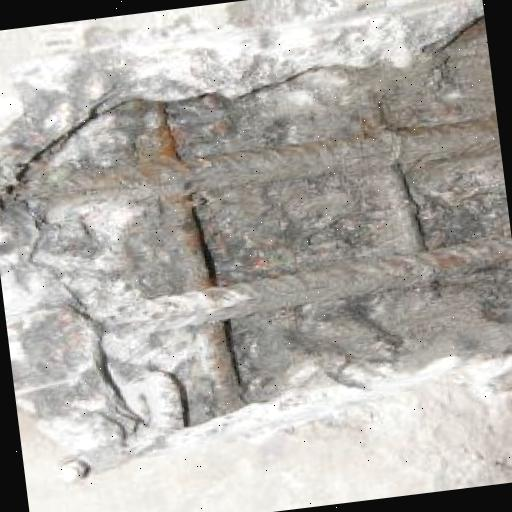spalling: (0, 17, 512, 476)
